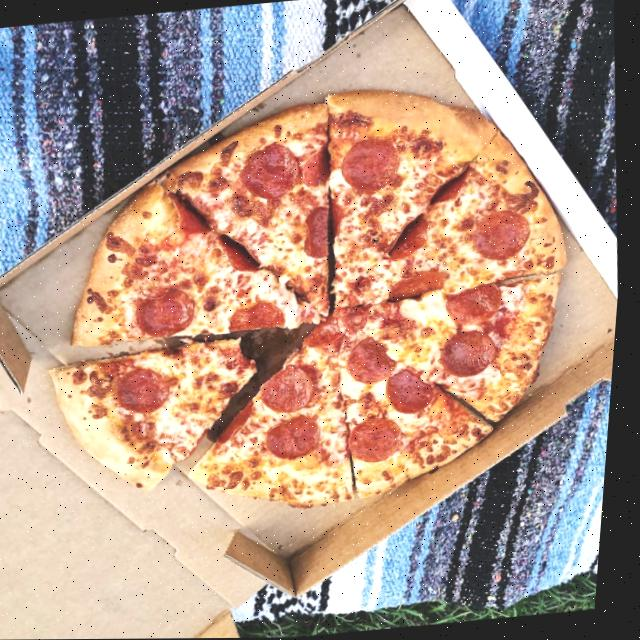pepperoni: (238, 140, 305, 202), (339, 136, 404, 195), (472, 208, 537, 263), (441, 327, 505, 379), (261, 362, 324, 414), (136, 288, 201, 338), (350, 414, 411, 464), (116, 365, 177, 414), (348, 334, 403, 384), (446, 282, 507, 327), (271, 413, 328, 459), (389, 367, 443, 415), (390, 268, 452, 301), (231, 299, 290, 331), (303, 205, 334, 259)
pizza: (4, 58, 621, 539)
